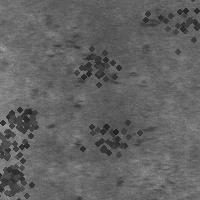rolled-in_scale: (62, 31, 157, 129), (25, 14, 98, 140), (133, 0, 200, 69), (108, 155, 199, 198), (67, 36, 125, 94), (82, 109, 136, 163), (0, 96, 46, 144), (0, 148, 40, 200), (0, 117, 26, 169)
